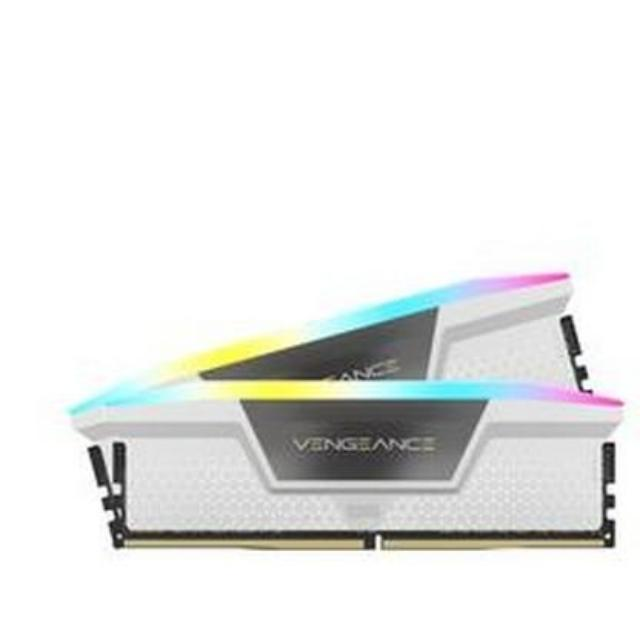RAM: (55, 261, 640, 568)
